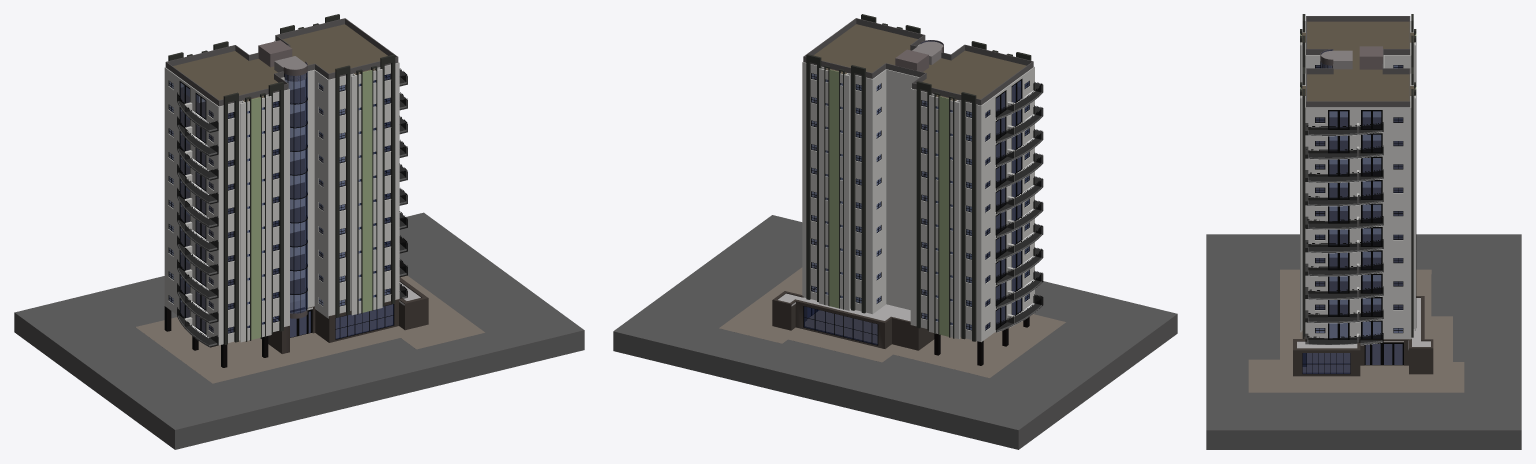
The model's file is residential_complex_modern_apartment_building 1.glb.
3 views of the same model, side by side, from view 1: azimuth 30°, elevation 25°; view 2: azimuth 150°, elevation 25°; view 3: azimuth 270°, elevation 25° (orthographic).
Visible parts, largest first — view 1: Plane001, Line464, Line413, Circle001, Line410, Line320, Line230, Line185, Line095, Line140, Line275, Line050 (+16 smaller); view 2: Plane001, Line464, Line413, Line410, Line095, Line185, Line140, Line275, Line320, Line050, Line230, Line365 (+16 smaller); view 3: Plane001, Line464, Line413, Line410, Line463, Line465, Line475, Line365, Line185, Line050, Line275, Line230 (+39 smaller).
Boxes of the visible parts, <box> form: Plane001: <box>14,212,584,449</box>; Line464: <box>135,275,484,383</box>; Line413: <box>173,24,387,101</box>; Circle001: <box>284,63,307,313</box>; Line410: <box>164,40,399,130</box>; Line320: <box>164,110,399,178</box>; Line230: <box>164,158,399,225</box>; Line185: <box>164,182,399,249</box>; Line095: <box>164,230,399,297</box>; Line140: <box>164,206,399,273</box>; Line275: <box>164,134,399,202</box>; Line050: <box>164,253,399,321</box>; Plane001: <box>613,215,1177,449</box>; Line464: <box>719,267,1065,378</box>; Line413: <box>813,24,1026,101</box>; Line410: <box>802,40,1034,129</box>; Line095: <box>802,227,1034,294</box>; Line185: <box>802,180,1034,247</box>; Line140: <box>802,204,1034,271</box>; Line275: <box>802,133,1034,200</box>; Line320: <box>802,109,1034,176</box>; Line050: <box>802,251,1034,318</box>; Line230: <box>802,157,1034,223</box>; Line365: <box>802,86,1034,153</box>; Plane001: <box>1206,234,1521,449</box>; Line464: <box>1248,269,1464,392</box>; Line413: <box>1301,21,1414,101</box>; Line410: <box>1300,21,1415,132</box>; Line463: <box>1293,296,1433,376</box>; Line465: <box>1306,16,1410,107</box>; Line475: <box>1329,65,1397,325</box>; Line365: <box>1300,66,1415,156</box>; Line185: <box>1300,213,1415,249</box>; Line050: <box>1300,283,1415,320</box>; Line275: <box>1300,166,1415,203</box>; Line230: <box>1300,190,1415,226</box>.
Bounding box in the file's own units: 57.75 × 39.95 × 39.25.
